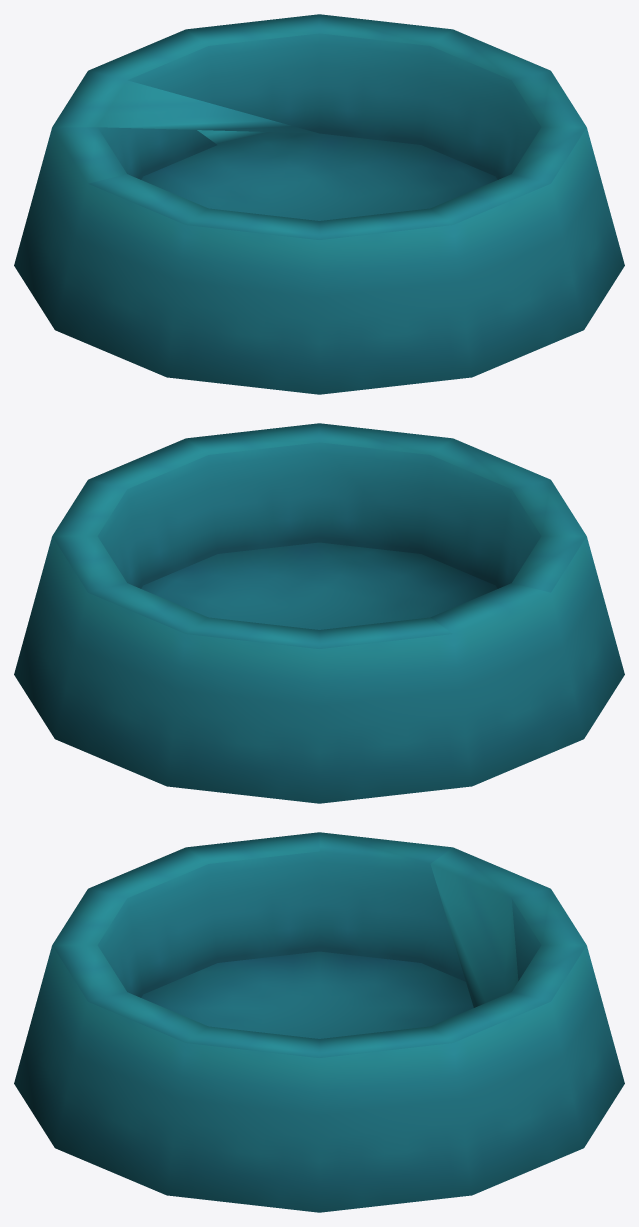
Rendered from batch_0000.obj.
3 renders of one model, top to bottom at view 1: azimuth 30°, elevation 25°; view 2: azimuth 150°, elevation 25°; view 3: azimuth 270°, elevation 25°, orthographic.
Visible parts, largest first — view 1: batch_0000; view 2: batch_0000; view 3: batch_0000.
Part boxes in pixels (<box>): batch_0000: <box>14,14,624,394</box>; batch_0000: <box>14,423,624,803</box>; batch_0000: <box>14,832,624,1212</box>.
Size of the model in its own units: 48 by 12 by 48.
Materials: 1 (1 with a texture image).
